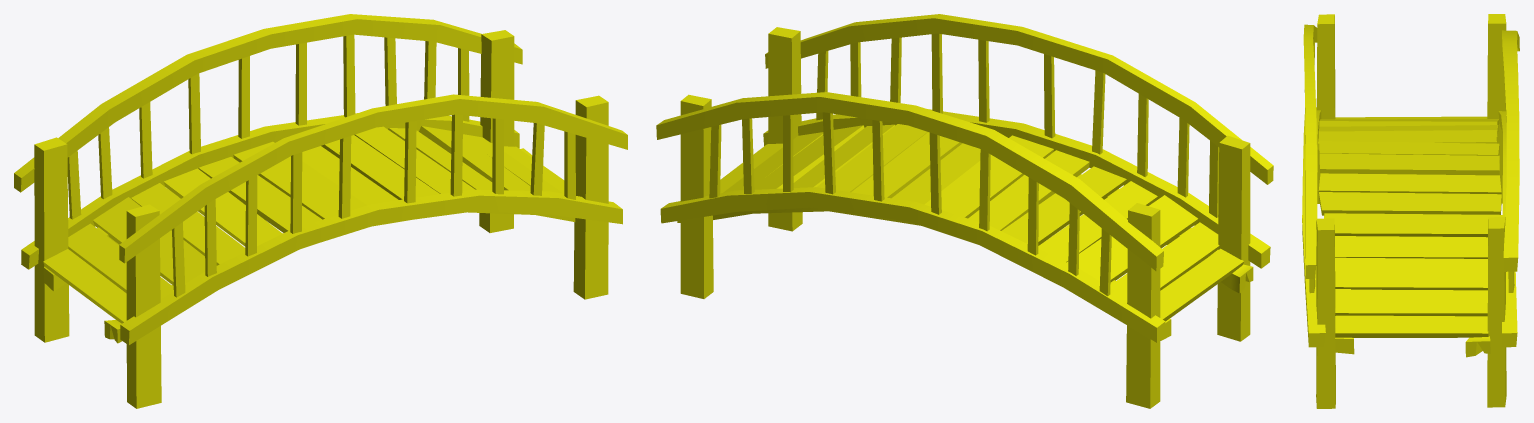
Rendered from PT_Wooden_Bridge_02.glb.
The picture shows the model from 3 angles, left to right: view 1: azimuth 30°, elevation 25°; view 2: azimuth 150°, elevation 25°; view 3: azimuth 270°, elevation 25°; orthographic projection. The views are drawn at different scales.
Parts seen in each view (by area): view 1: PT_Wooden_Bridge_02_LOD0; view 2: PT_Wooden_Bridge_02_LOD0; view 3: PT_Wooden_Bridge_02_LOD0.
Boxes of the visible parts, x1,y1,x2,y2 form: PT_Wooden_Bridge_02_LOD0: [14, 14, 627, 408]; PT_Wooden_Bridge_02_LOD0: [656, 14, 1273, 408]; PT_Wooden_Bridge_02_LOD0: [1302, 14, 1519, 408].
Size of what is drawn, in the model's own units: 4.47 by 2.08 by 1.79.
1 material, 1 textured.
